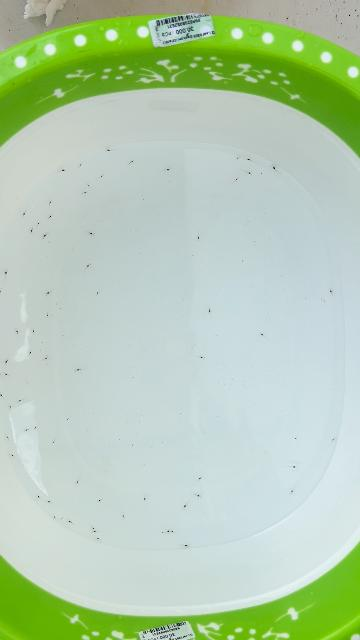benur: (270, 165, 276, 171), (66, 518, 72, 523), (41, 234, 46, 239), (166, 167, 172, 171), (15, 328, 19, 334), (29, 349, 33, 355), (4, 360, 8, 365), (36, 493, 40, 498), (289, 490, 293, 495), (293, 465, 298, 469), (259, 332, 264, 336), (200, 356, 205, 360), (248, 172, 253, 176), (61, 169, 67, 172), (100, 174, 104, 178), (49, 214, 53, 218), (87, 263, 91, 267), (45, 292, 49, 296), (182, 505, 186, 509), (332, 437, 336, 441), (235, 177, 239, 181), (105, 149, 110, 152), (49, 199, 52, 204), (22, 213, 25, 218), (30, 229, 33, 234), (90, 233, 95, 236), (5, 269, 8, 274), (9, 453, 14, 456), (45, 500, 50, 503), (54, 515, 57, 520), (97, 538, 102, 541), (185, 544, 190, 547), (75, 369, 80, 372), (209, 309, 212, 314), (330, 290, 333, 295), (245, 158, 250, 161), (131, 160, 135, 163), (80, 162, 83, 166), (97, 291, 100, 295), (45, 356, 49, 359), (17, 400, 21, 403), (24, 429, 28, 432), (75, 481, 78, 485), (52, 440, 55, 444), (92, 527, 96, 530), (91, 530, 95, 533), (97, 499, 101, 502), (122, 515, 125, 519), (143, 498, 146, 502), (167, 529, 171, 532), (197, 495, 201, 498), (199, 476, 203, 479), (197, 237, 200, 241), (235, 157, 239, 160), (9, 404, 11, 409), (87, 184, 90, 187), (37, 222, 40, 225), (46, 314, 49, 317), (4, 373, 7, 376), (0, 393, 3, 396), (34, 426, 37, 429), (5, 435, 8, 438), (24, 458, 27, 461), (171, 530, 174, 533), (323, 300, 326, 303), (84, 191, 88, 193), (33, 329, 35, 333), (59, 518, 63, 520), (26, 381, 28, 384), (67, 417, 69, 420), (162, 532, 164, 534)
